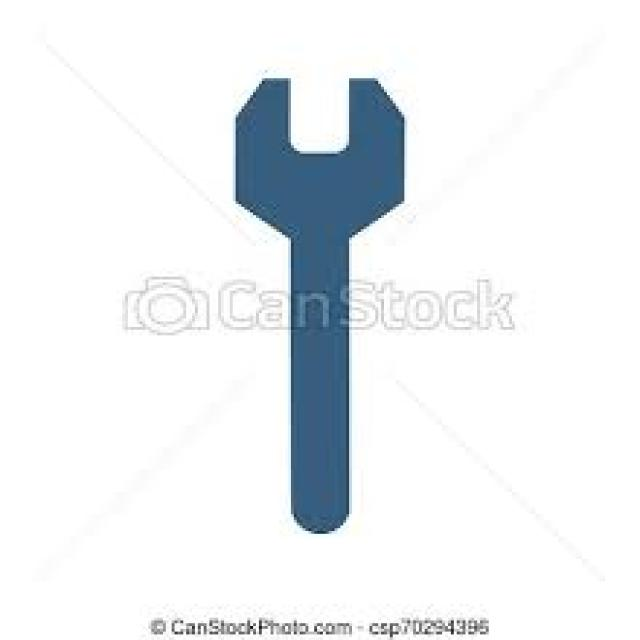spanner: (237, 74, 405, 532)
